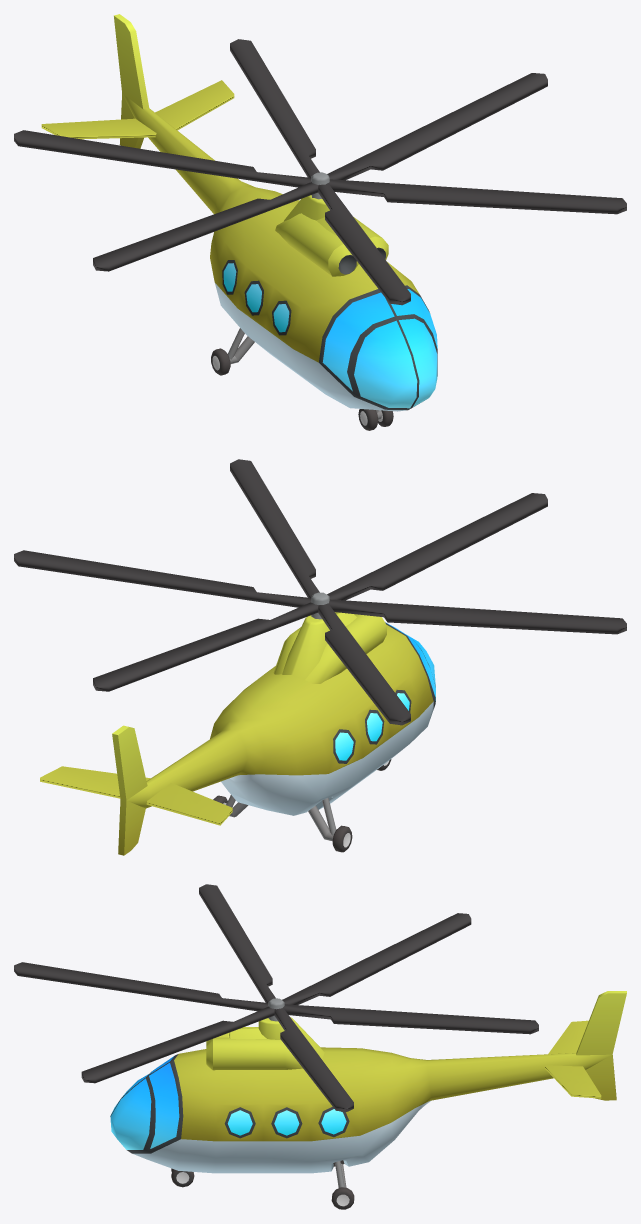
The model's file is Helicopter_01.glb.
3 renders of one model, top to bottom at view 1: azimuth 30°, elevation 25°; view 2: azimuth 150°, elevation 25°; view 3: azimuth 270°, elevation 25°, orthographic. The views are drawn at different scales.
Parts seen in each view (by area): view 1: Helicopter_01, Helicopter_Propeller_01; view 2: Helicopter_01, Helicopter_Propeller_01; view 3: Helicopter_01, Helicopter_Propeller_01.
Boxes of the visible parts, bbox=[...] form: Helicopter_01: bbox=[41, 14, 437, 430]; Helicopter_Propeller_01: bbox=[14, 39, 626, 305]; Helicopter_01: bbox=[40, 612, 435, 855]; Helicopter_Propeller_01: bbox=[14, 459, 626, 725]; Helicopter_01: bbox=[110, 991, 626, 1209]; Helicopter_Propeller_01: bbox=[14, 884, 538, 1111].
Size of the model in its own units: 12.42 by 4.99 by 14.5.
1 material, 1 textured.
